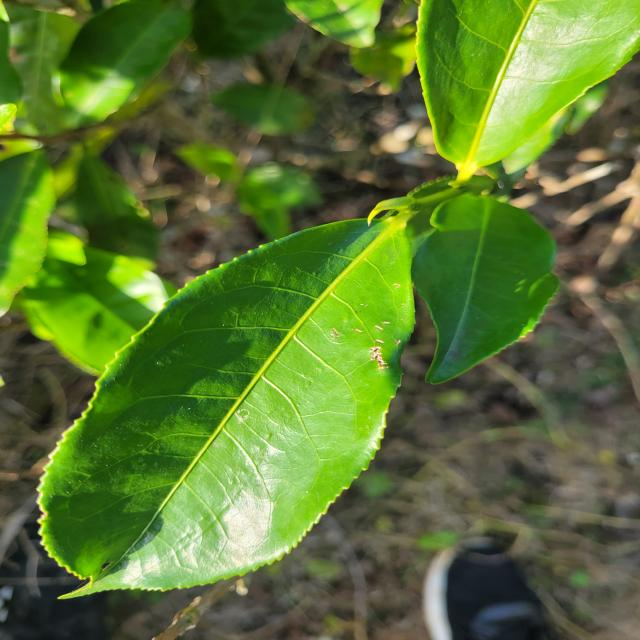Category D(7+ days, Not for Tea): (22, 176, 440, 608)
